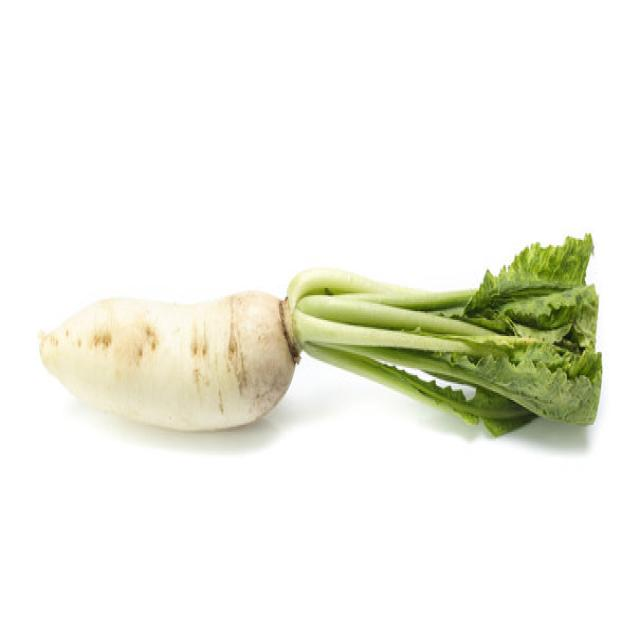Lemon: (38, 286, 298, 432)
Radish: (38, 231, 603, 437)
